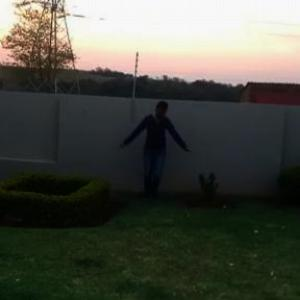land: (115, 93, 196, 206)
